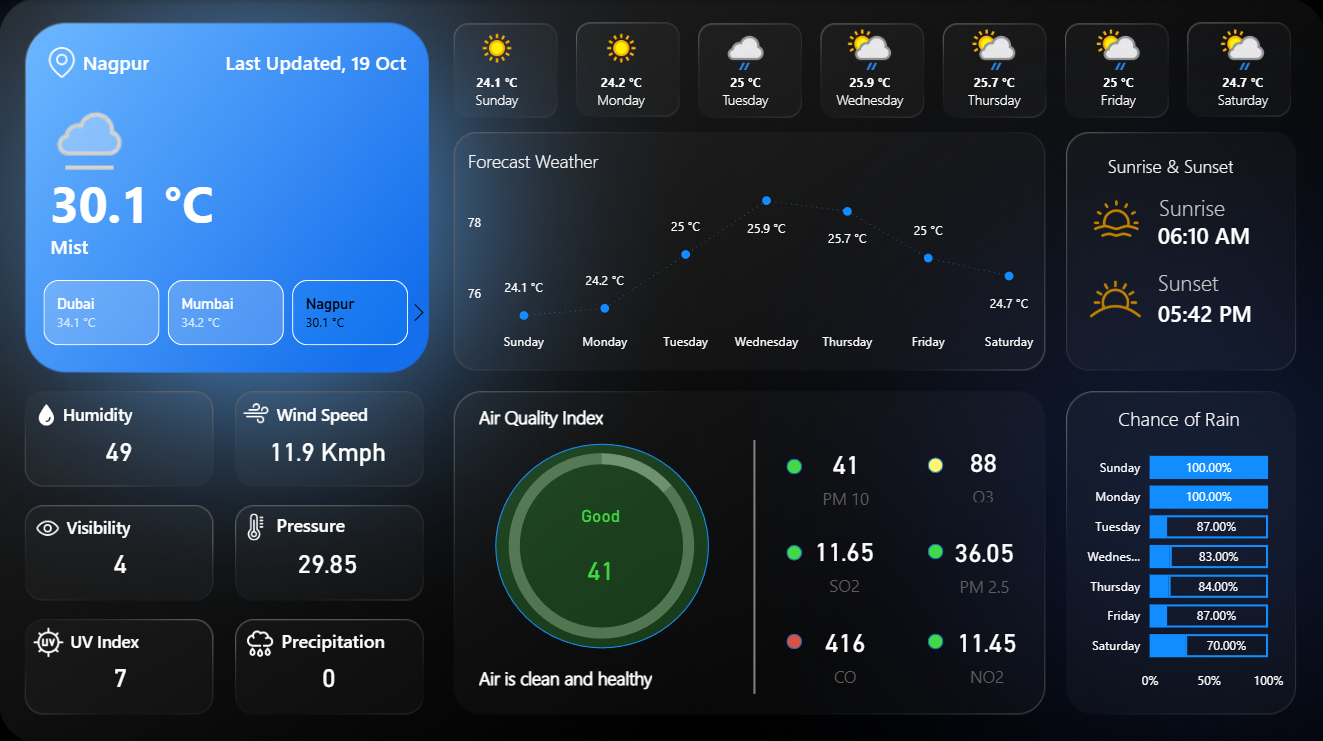

The dashboard page shown, as its layout file describes it:
{"tool":"powerbi","page":{"name":"Page 1","canvas":[1280,720],"ordinal":0},"visuals":[{"type":"advancedSlicerVisual","fields":{"Values":["Locations.location.name"]},"box":[18.4,265.1,402.7,73.7],"z":0},{"type":"shape","box":[50,143.2,178.6,103.5],"z":1000},{"type":"shape","box":[50,218.3,178.6,38.3],"z":2000},{"type":"shape","box":[80.8,39.7,121.9,41.1],"z":3000},{"type":"shape","box":[216.9,39.7,175.8,41.1],"z":4000},{"type":"image","box":[41.1,39.7,39.7,41.1],"z":5000},{"type":"cardVisual","fields":{"Data":["Min(Current Data.current.condition.icon)"]},"box":[26.2,68.8,126.2,115],"z":6000},{"type":"image","box":[25,385,40,31.2],"z":7000},{"type":"shape","box":[61,384.2,175.8,31.2],"z":8000},{"type":"image","box":[228.3,381.4,40,35.4],"z":9000},{"type":"shape","box":[268,384.2,175.8,31.2],"z":10000},{"type":"image","box":[27.5,492.5,38.8,35],"z":11000},{"type":"shape","box":[65,493.8,175,31.2],"z":12000},{"type":"image","box":[225,491.2,46.2,35],"z":13000},{"type":"shape","box":[267.5,490,175,31.2],"z":14000},{"type":"image","box":[27.5,598.8,40,42.5],"z":15000},{"type":"shape","box":[68.8,603.8,175,31.2],"z":16000},{"type":"image","box":[226.2,601.2,50,41.2],"z":17000},{"type":"shape","box":[272.5,602.5,175,31.2],"z":18000},{"type":"card","fields":{"Values":["Sum(Current Data.current.humidity)"]},"box":[27.5,401.2,176.2,67.5],"z":19000},{"type":"card","fields":{"Values":["_Measures.Wind_Speed"]},"box":[228.8,401.2,176.2,67.5],"z":20000},{"type":"card","fields":{"Values":["Sum(Current Data.current.vis_km)"]},"box":[28.8,510,176.2,67.5],"z":21000},{"type":"card","fields":{"Values":["Sum(Current Data.current.pressure_in)"]},"box":[228.8,510,176.2,67.5],"z":22000},{"type":"card","fields":{"Values":["Sum(Current Data.current.precip_in)"]},"box":[230,620,176.2,67.5],"z":23000},{"type":"card","fields":{"Values":["Sum(Current Data.current.uv)"]},"box":[28.8,620,176.2,67.5],"z":24000},{"type":"advancedSlicerVisual","fields":{"Values":["Forecast_Day.Day_Name"]},"box":[417.5,10,850,107.5],"z":25000},{"type":"lineChart","title":"Forecast Weather","fields":{"Y":["Sum(Forecast_Day.forecast.forecastday.day.avgtemp_f)"],"Category":["Forecast_Day.Day_Name"]},"box":[447.5,143.8,563.8,205],"z":26000},{"type":"shape","box":[1032.5,143.8,196.2,31.2],"z":27000},{"type":"shape","box":[1118.8,253.2,108.8,36.2],"z":28000},{"type":"shape","box":[1118.8,208.8,108.8,36.2],"z":29000},{"type":"shape","box":[1120,181.2,108.8,36.2],"z":30000},{"type":"shape","box":[1118.8,283.8,108.8,36.2],"z":31000},{"type":"image","box":[1041.8,184.5,71.8,52.7],"z":32000},{"type":"image","box":[1032.5,251.5,90,75],"z":33000},{"type":"hundredPercentStackedBarChart","title":"Chance of Rain","fields":{"Y":["Current Data.Left_Value_Rain","Sum(Forecast_Day.forecast.forecastday.day.daily_chance_of_rain)"],"Category":["Forecast_Day.Day_Name"]},"box":[1032.7,390.9,212.3,284.7],"z":34000},{"type":"shape","box":[463.8,386.2,196.2,31.2],"z":35000},{"type":"card","fields":{"Values":["Sum(Current Data.current.air_quality.pm10)"]},"box":[782.4,425.5,71.2,66.2],"z":36000},{"type":"card","fields":{"Values":["Sum(Current Data.current.air_quality.pm2_5)"]},"box":[916.2,510,71.2,67.5],"z":37000},{"type":"card","fields":{"Values":["Sum(Current Data.current.air_quality.so2)"]},"box":[781.1,510.5,71.2,66.2],"z":38000},{"type":"card","fields":{"Values":["Sum(Current Data.current.air_quality.o3)"]},"box":[915,425,71.2,65],"z":39000},{"type":"card","fields":{"Values":["Sum(Current Data.current.air_quality.co)"]},"box":[781.1,597.2,72.5,67.5],"z":40000},{"type":"card","fields":{"Values":["Sum(Current Data.current.air_quality.no2)"]},"box":[917.5,597.5,71.2,67.5],"z":41000},{"type":"shape","box":[759.9,442.2,15,15],"z":42000},{"type":"shape","box":[759.9,612.2,15,15],"z":43000},{"type":"shape","box":[759.9,526,15,15],"z":44000},{"type":"shape","box":[896,442,15,15],"z":45000},{"type":"shape","box":[896,525,15,15],"z":46000},{"type":"shape","box":[896,612,15,15],"z":47000},{"type":"shape","box":[631.2,425,196.2,245],"z":48000},{"type":"card","fields":{"Values":["Sum(Current Data.current.air_quality.pm10)"]},"box":[516.2,487.5,128.8,107.5],"z":49000},{"type":"donutChart","fields":{"Y":["Sum(Current Data.current.air_quality.pm10)","_Measures.Left_Value_PM10"]},"box":[456.2,410,251.2,233.8],"z":50000},{"type":"shape","box":[478.8,428.8,206.2,197.5],"z":51000},{"type":"shape","box":[463.3,638.2,287.1,31.4],"z":51001}]}

Visuals, with their boxes in screenshot pixels (x1, y1, x2, y2), scaled from the page's 1280x720 canvas onto the 1323x741 screenshot:
advancedSlicerVisual - Locations.location.name: 19/273/435/349
shape: 52/147/236/254
shape: 52/225/236/264
shape: 84/41/210/83
shape: 224/41/406/83
image: 42/41/84/83
cardVisual - Min(Current Data.current.condition.icon): 27/71/158/189
image: 26/396/67/428
shape: 63/395/245/428
image: 236/393/277/429
shape: 277/395/459/428
image: 28/507/69/543
shape: 67/508/248/540
image: 233/506/280/542
shape: 276/504/457/536
image: 28/616/70/660
shape: 71/621/252/654
image: 234/619/285/661
shape: 282/620/463/652
card - Sum(Current Data.current.humidity): 28/413/211/482
card - _Measures.Wind_Speed: 236/413/419/482
card - Sum(Current Data.current.vis_km): 30/525/212/594
card - Sum(Current Data.current.pressure_in): 236/525/419/594
card - Sum(Current Data.current.precip_in): 238/638/420/708
card - Sum(Current Data.current.uv): 30/638/212/708
advancedSlicerVisual - Forecast_Day.Day_Name: 432/10/1310/121
"Forecast Weather" lineChart: 463/148/1045/359
shape: 1067/148/1270/180
shape: 1156/261/1269/298
shape: 1156/215/1269/252
shape: 1158/186/1270/224
shape: 1156/292/1269/329
image: 1077/190/1151/244
image: 1067/259/1160/336
"Chance of Rain" hundredPercentStackedBarChart: 1067/402/1287/695
shape: 479/397/682/430
card - Sum(Current Data.current.air_quality.pm10): 809/438/882/506
card - Sum(Current Data.current.air_quality.pm2_5): 947/525/1021/594
card - Sum(Current Data.current.air_quality.so2): 807/525/881/594
card - Sum(Current Data.current.air_quality.o3): 946/437/1019/504
card - Sum(Current Data.current.air_quality.co): 807/615/882/684
card - Sum(Current Data.current.air_quality.no2): 948/615/1022/684
shape: 785/455/801/471
shape: 785/630/801/645
shape: 785/541/801/557
shape: 926/455/942/470
shape: 926/540/942/556
shape: 926/630/942/645
shape: 652/437/855/690
card - Sum(Current Data.current.air_quality.pm10): 534/502/667/612
donutChart - Sum(Current Data.current.air_quality.pm10) x _Measures.Left_Value_PM10: 472/422/731/663
shape: 495/441/708/645
shape: 479/657/776/689
